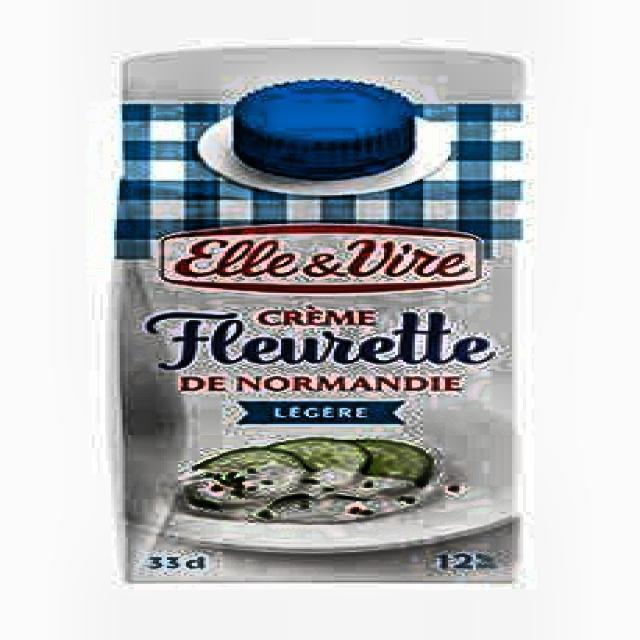cardboard: (108, 45, 526, 582)
